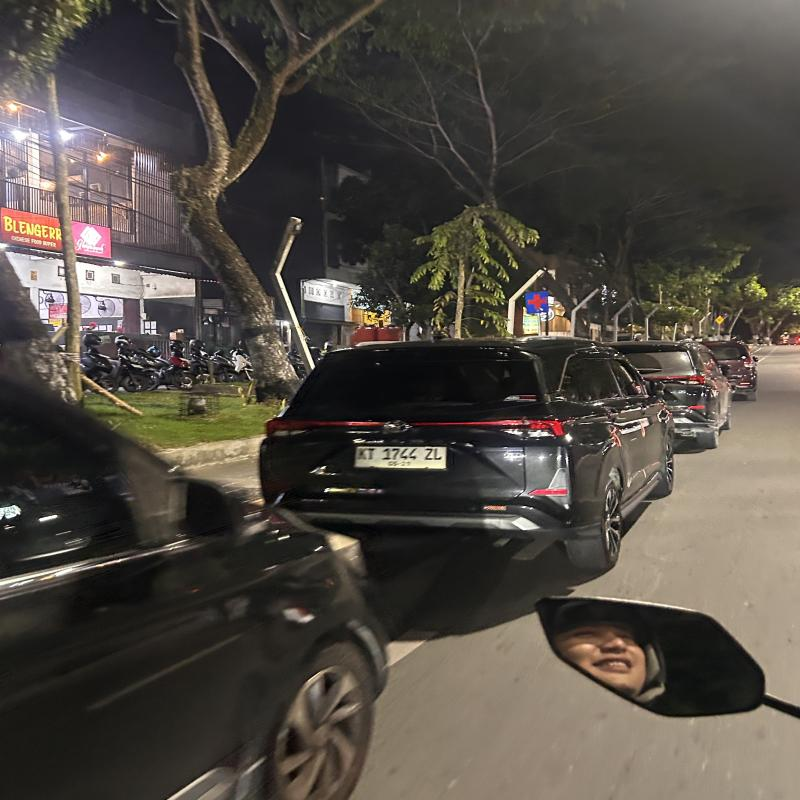license plate on a car: (353, 444, 448, 471)
